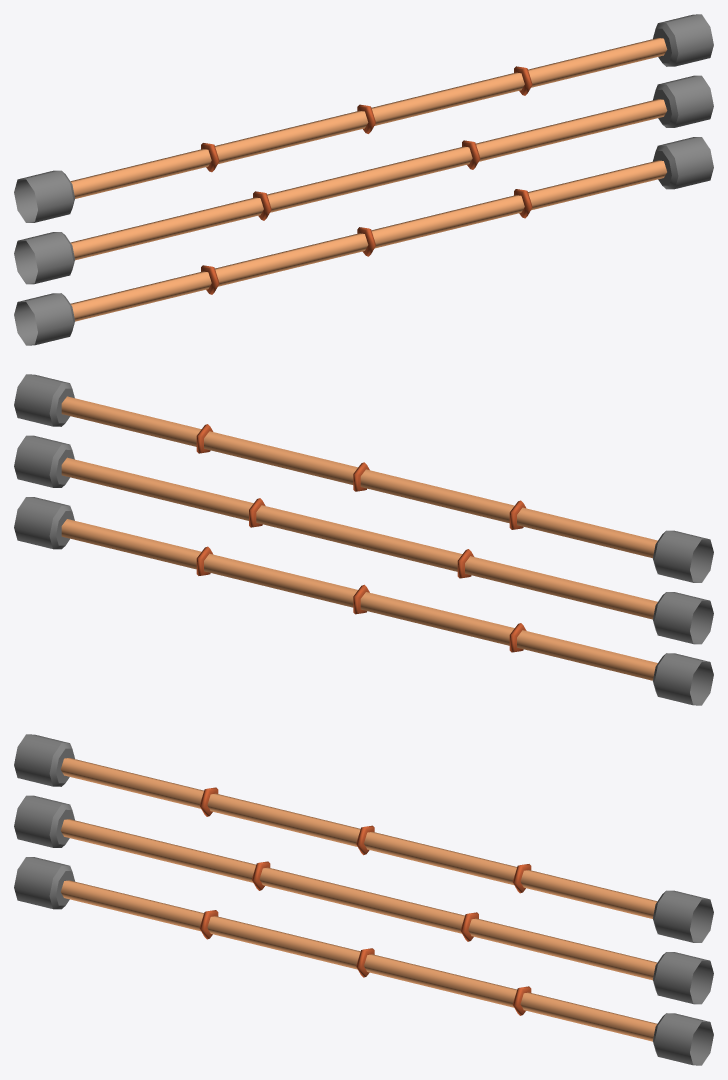
Rendered from fence_003.fbx.
3 renders of one model, top to bottom at view 1: azimuth 30°, elevation 25°; view 2: azimuth 150°, elevation 25°; view 3: azimuth 330°, elevation 25°, orthographic.
Parts seen in each view (by area): view 1: fence_003; view 2: fence_003; view 3: fence_003.
Boxes of the visible parts, <box> form: fence_003: <box>14,14,713,345</box>; fence_003: <box>14,374,713,705</box>; fence_003: <box>14,734,713,1065</box>.
Bounding box in the file's own units: 612 × 37.9 × 144.
